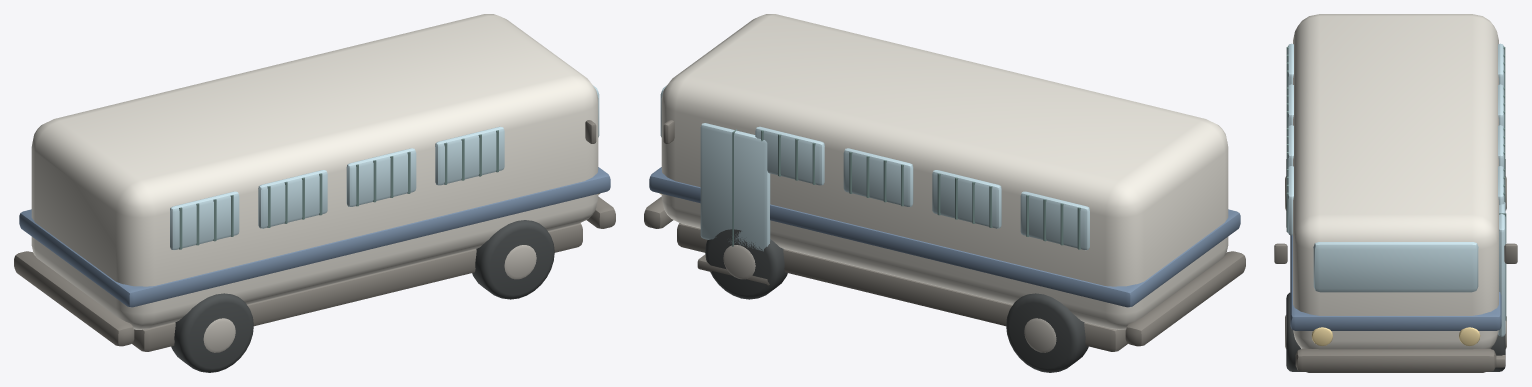
The model's file is bus.glb.
The picture shows the model from 3 angles, left to right: view 1: azimuth 30°, elevation 25°; view 2: azimuth 150°, elevation 25°; view 3: azimuth 270°, elevation 25°; orthographic projection. The views are drawn at different scales.
Parts seen in each view (by area): view 1: lorry, glass, steel_dark, blue_stripe, rubber, paint, steel; view 2: lorry, glass, steel_dark, blue_stripe, rubber, paint, steel; view 3: lorry, glass, steel_dark, blue_stripe, rubber, paint, light, steel.
Part boxes in pixels (x1,y1,x2,y2): lorry: (31, 14, 598, 329); glass: (170, 85, 599, 250); steel_dark: (14, 120, 615, 351); blue_stripe: (19, 167, 610, 307); rubber: (171, 220, 554, 372); paint: (179, 130, 498, 249); steel: (203, 245, 536, 352); lorry: (661, 14, 1228, 329); glass: (660, 85, 1089, 251); steel_dark: (644, 120, 1245, 351); blue_stripe: (649, 167, 1240, 307); rubber: (705, 229, 1088, 372); paint: (732, 129, 1080, 249); steel: (723, 245, 1056, 352); lorry: (1293, 14, 1498, 349); glass: (1287, 43, 1505, 336); steel_dark: (1274, 243, 1517, 372); blue_stripe: (1290, 235, 1501, 330); rubber: (1286, 159, 1505, 371); paint: (1286, 46, 1506, 320); light: (1311, 327, 1480, 345); steel: (1285, 176, 1506, 348).
Bounding box in the file's own units: 4.08 × 1.52 × 1.82.
